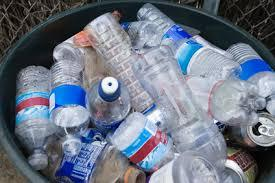Aluminum can: (240, 109, 275, 147)
Plastic bottle: (65, 8, 273, 99), (140, 49, 221, 182), (49, 49, 84, 163), (13, 65, 48, 161), (52, 133, 120, 181), (83, 73, 132, 128), (124, 136, 157, 176)
